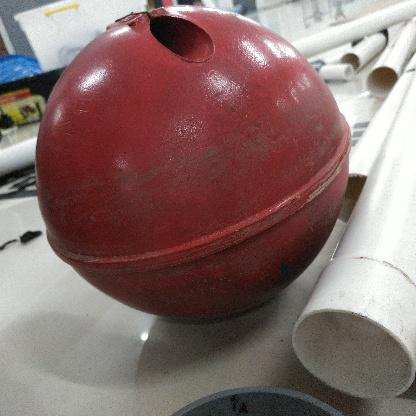red_buoy: (35, 3, 352, 324)
